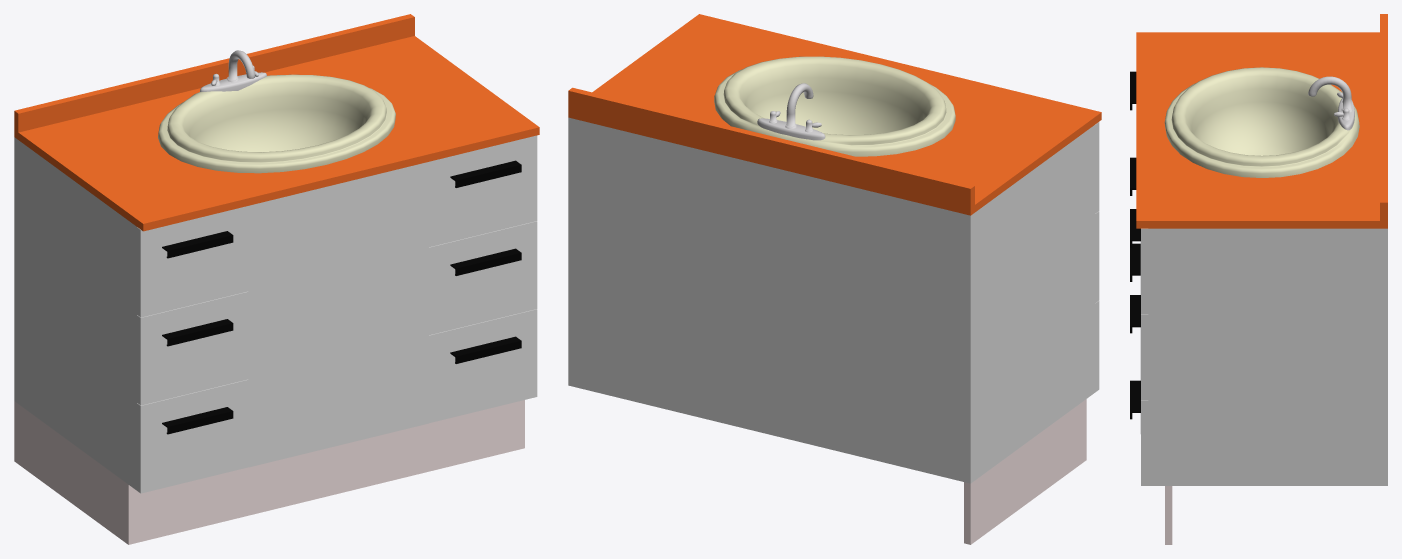
The model's file is Vanity.glb.
3 renders of one model, left to right at view 1: azimuth 30°, elevation 25°; view 2: azimuth 150°, elevation 25°; view 3: azimuth 270°, elevation 25°, orthographic. The views are drawn at different scales.
Parts seen in each view (by area): view 1: Cabinet2_Door.001; view 2: Cabinet2_Door.001; view 3: Cabinet2_Door.001.
Part boxes in pixels (x1,y1,x2,y2): Cabinet2_Door.001: [14, 14, 539, 544]; Cabinet2_Door.001: [568, 14, 1101, 544]; Cabinet2_Door.001: [1130, 14, 1387, 544].
Size of the model in its own units: 1.1 by 1.02 by 0.6353.
